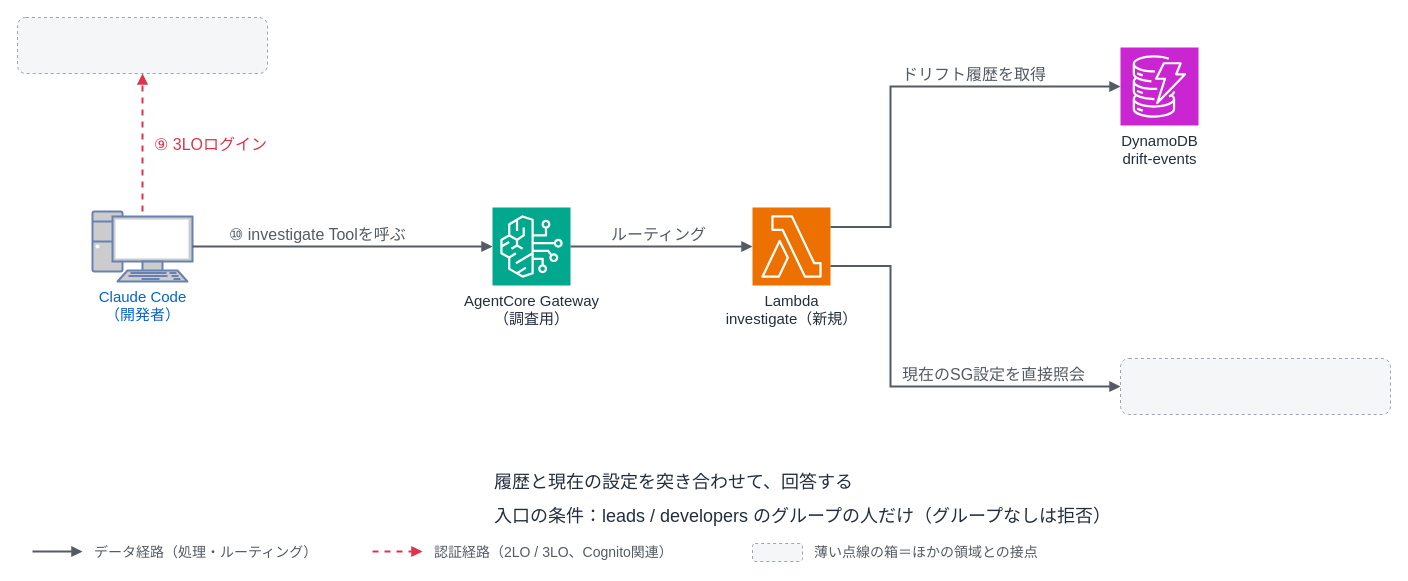
Image size: 1408x581. Some labels were removed from this diagram. The box of each missing label's shape, as (x1, y1, x2, y2) in pixels:
Cognito（⑨ ログイン）: (16, 16, 268, 74)
EC2 API（現在のSG設定）: (1120, 358, 1390, 414)
